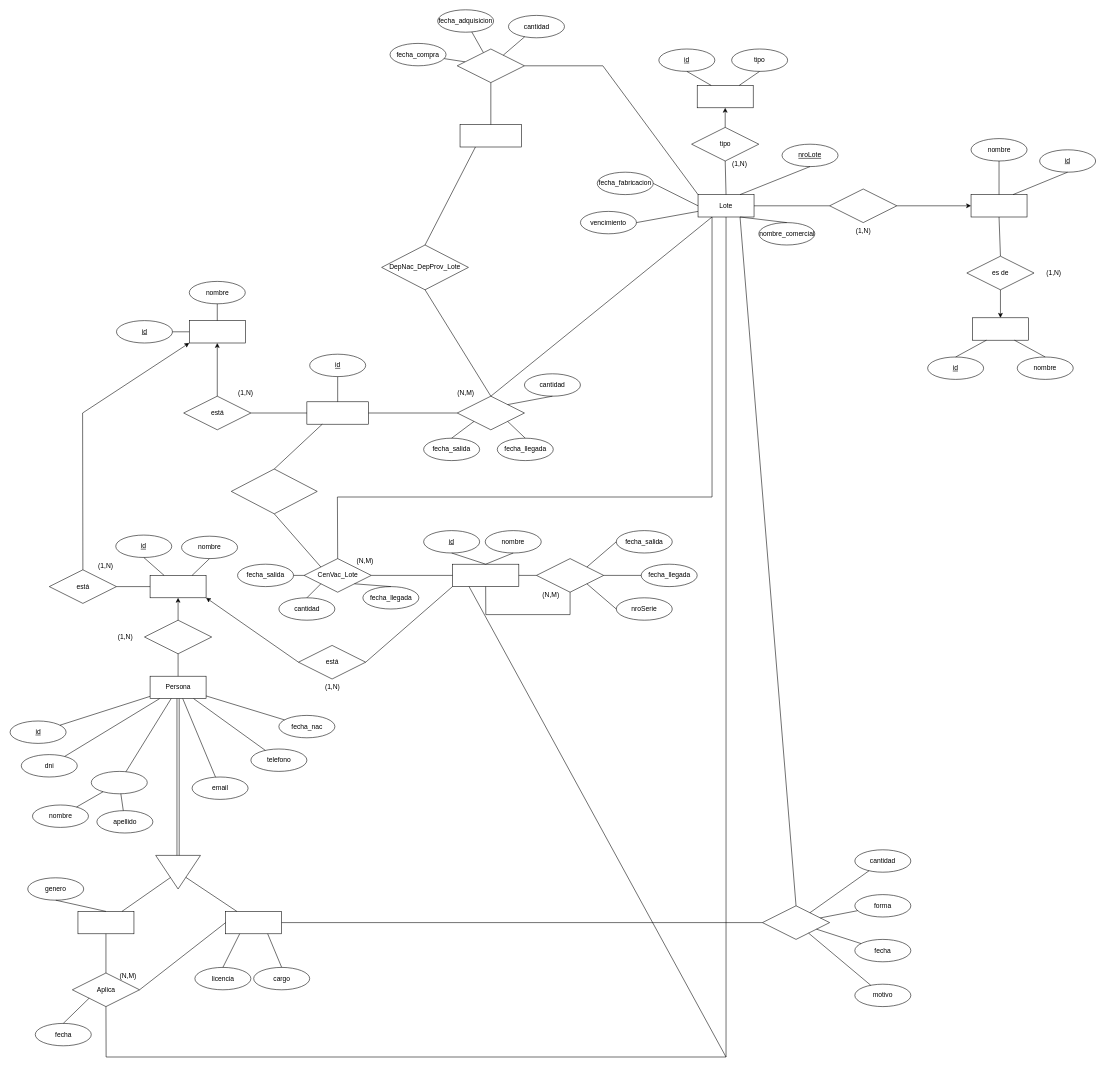
The diagram is 1105 pixels wide and 1067 high, and some of its shapes have lost their labels. Each missing label, with the centre of its shape:
"almacena" belongs at (490,65).
"Centro_vacunacion" belongs at (485,575).
"Deposito_nacional" belongs at (490,135).
"Deposito_provincial" belongs at (337,412).
"DepProv_CenVac_Lote" belongs at (274,491).
"DepProv_Lote" belongs at (490,413).
"Descarta" belongs at (796,922).
"ES" belongs at (177,872).
"fabrica" belongs at (863,205).
"Laboratorio" belongs at (998,205).
"Localidad" belongs at (178,586).
"nombre_completo" belongs at (119,782).
"Paciente" belongs at (105,922).
"Pais" belongs at (1000,328).
"PersonalSalud" belongs at (253,922).
"Provincia" belongs at (217,331).
"redistribuye" belongs at (570,575).
"Tipo_Vacuna" belongs at (725,96).
"vive" belongs at (178,637).
